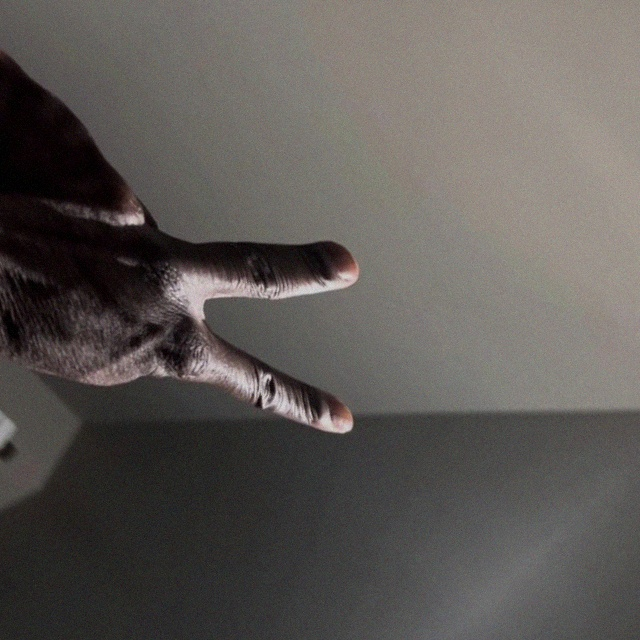Scissors: (0, 38, 442, 615)
